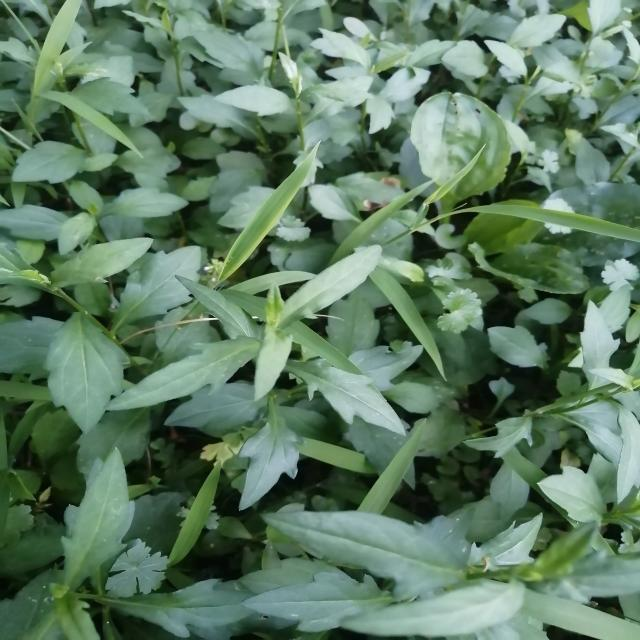Indian aster: (93, 237, 414, 475)
